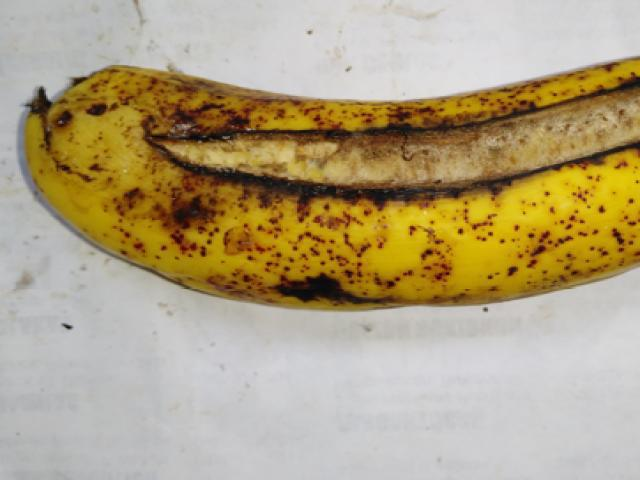rotten: (126, 60, 634, 212)
